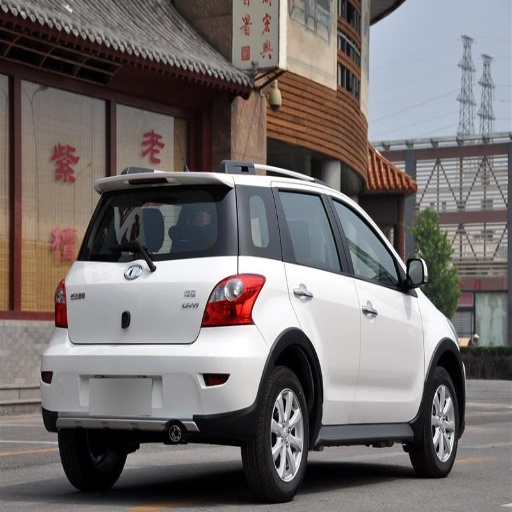back_bumper: (41, 323, 271, 441)
back_right_door: (272, 183, 360, 422)
trunk: (59, 263, 231, 371)
